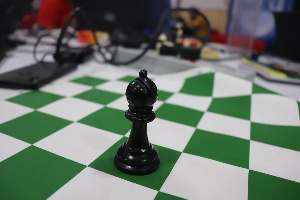black_bishop: (109, 62, 165, 178)
